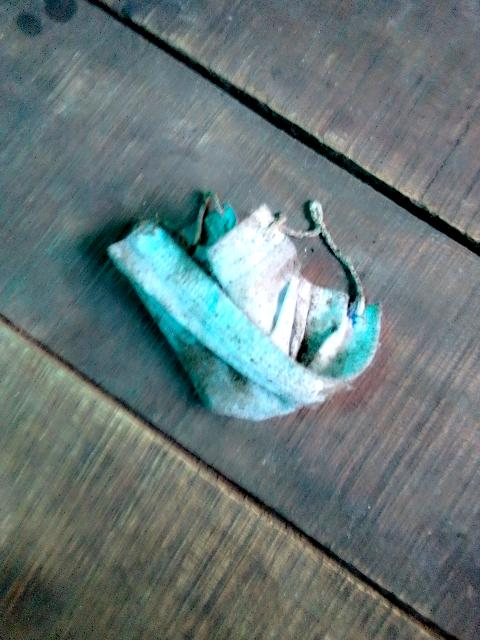mask: (146, 194, 341, 421)
